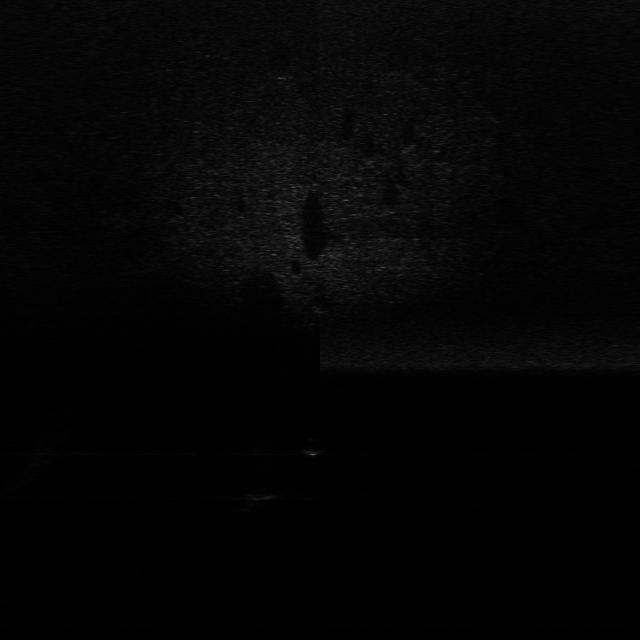ball: (298, 435, 331, 461)
square cage: (230, 488, 290, 508)
